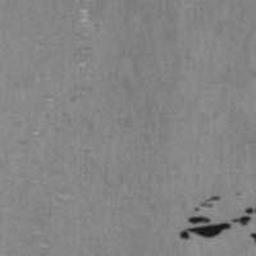Inclusion: (178, 206, 256, 239), (193, 195, 221, 211), (250, 233, 256, 242)
